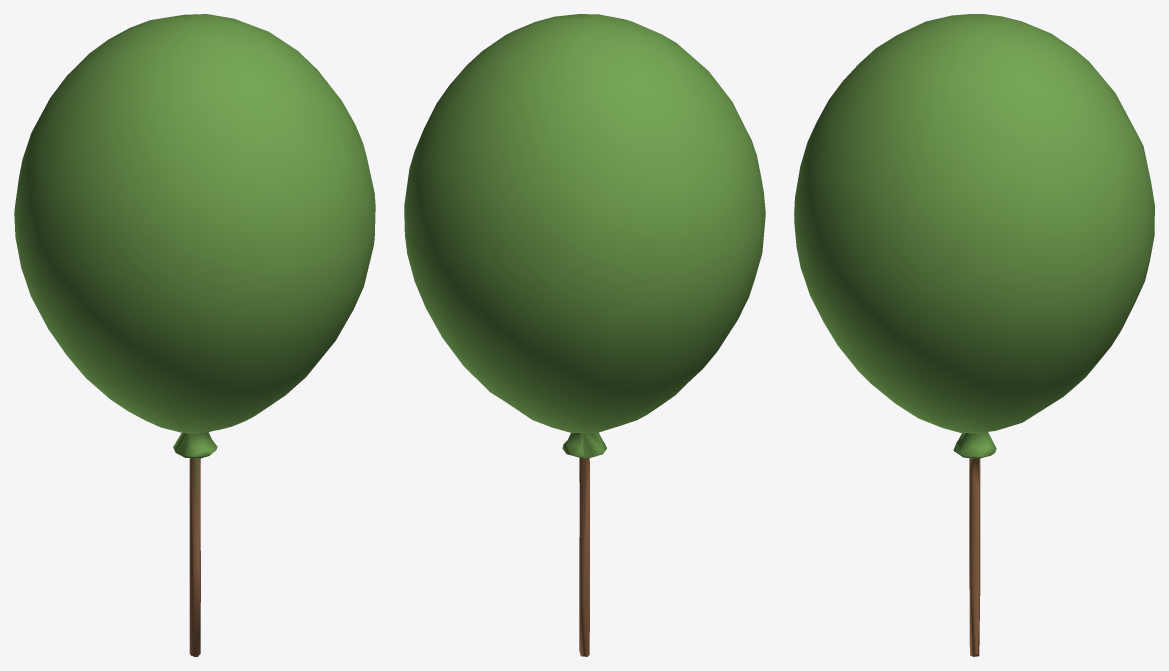
The model's file is gen3d-party-balloon-lod1.glb.
The picture shows the model from 3 angles, left to right: view 1: azimuth 30°, elevation 25°; view 2: azimuth 150°, elevation 25°; view 3: azimuth 270°, elevation 25°; orthographic projection.
Visible parts, largest first — view 1: part_0; view 2: part_0; view 3: part_0.
Boxes of the visible parts, x1,y1,x2,y2 form: part_0: [14, 14, 375, 656]; part_0: [404, 14, 765, 656]; part_0: [794, 14, 1154, 656].
Bounding box in the file's own units: 0.5199 × 0.9986 × 0.5199.
